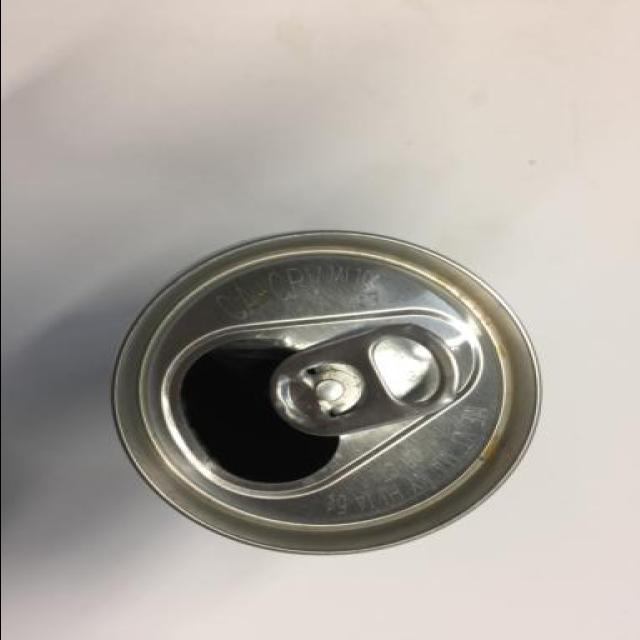litter: (96, 210, 566, 575)
